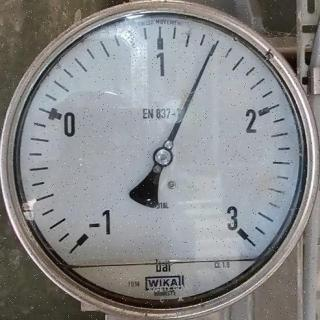gauge: (0, 0, 320, 320), (67, 212, 107, 260), (224, 213, 256, 247), (152, 145, 174, 167), (208, 41, 218, 53)
